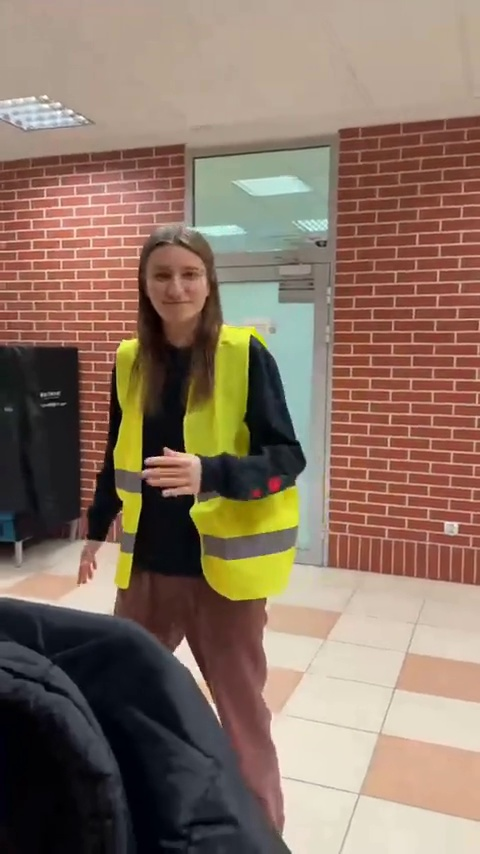vest: (72, 219, 319, 854)
